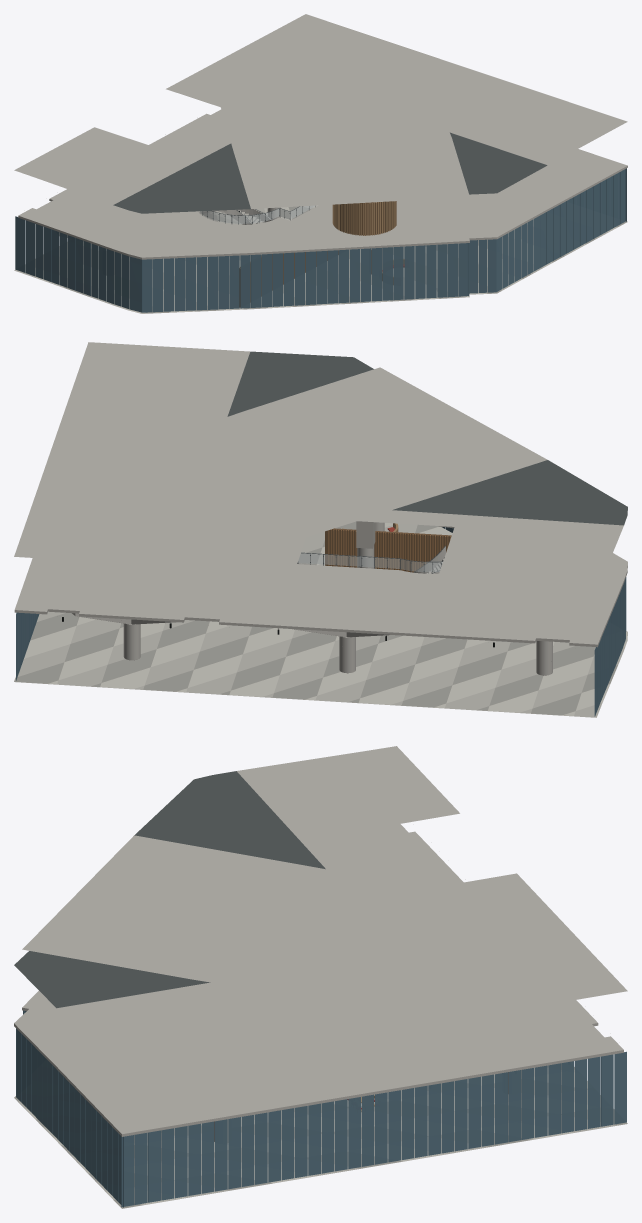
The model's file is mar-interior-6dfe7bad00f9.glb.
3 views of the same model, one above another, from view 1: azimuth 30°, elevation 25°; view 2: azimuth 150°, elevation 25°; view 3: azimuth 270°, elevation 25° (orthographic). The views are drawn at different scales.
Parts seen in each view (by area): view 1: MAR.001; view 2: MAR.001; view 3: MAR.001.
Part boxes in pixels (x1=…): MAR.001: x1=14, y1=14, x2=627, y2=313; MAR.001: x1=14, y1=342, x2=627, y2=717; MAR.001: x1=14, y1=746, x2=627, y2=1208.
Size of the model in its own units: 67.69 by 12.7 by 53.21.
